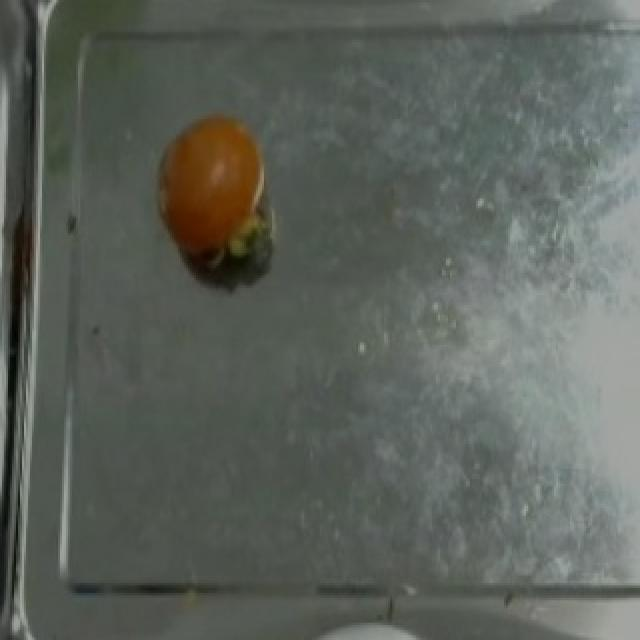Fruit: (150, 104, 272, 270)
